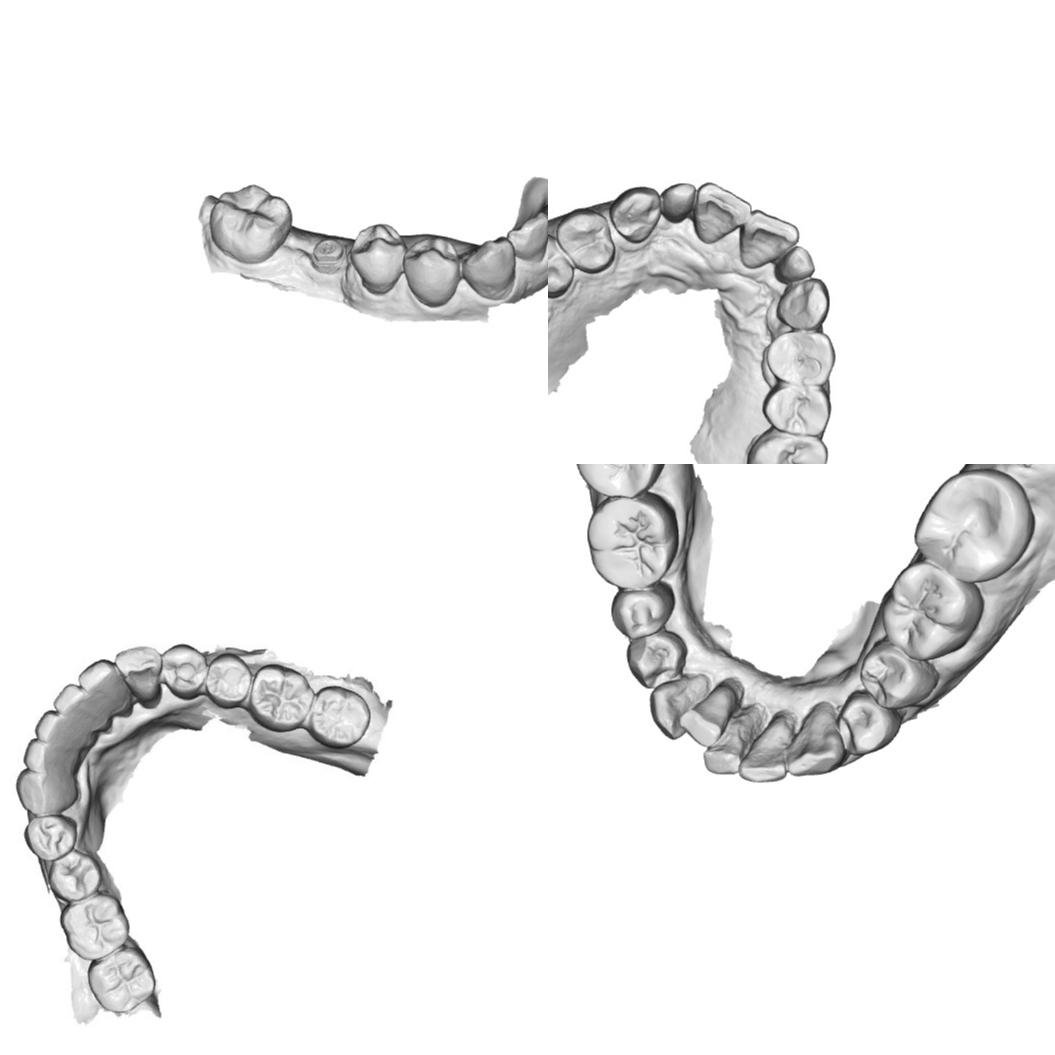canine: (784, 702, 844, 777), (648, 677, 709, 739), (460, 235, 517, 301), (15, 767, 84, 817), (115, 640, 161, 710), (608, 185, 662, 244), (776, 278, 830, 330)
crown: (774, 245, 816, 283), (659, 181, 696, 224)
implant_minus: (299, 230, 344, 279)
incisor: (678, 682, 737, 749), (693, 180, 751, 244), (738, 209, 800, 268), (736, 716, 790, 783), (82, 662, 137, 719), (55, 685, 112, 737), (37, 713, 101, 758), (698, 717, 745, 777), (506, 210, 548, 264), (24, 741, 86, 777)
molar: (912, 467, 1037, 585), (879, 559, 984, 661), (585, 494, 678, 591), (206, 182, 294, 265), (84, 946, 157, 1017), (305, 684, 374, 748), (60, 899, 128, 962), (252, 662, 312, 730), (571, 464, 670, 498), (745, 427, 829, 464)
premolar: (857, 647, 938, 712), (833, 688, 899, 759), (348, 222, 408, 295), (402, 236, 461, 308), (608, 580, 677, 641), (764, 328, 836, 386), (555, 208, 615, 274), (624, 628, 688, 689), (760, 382, 831, 436), (162, 638, 210, 700), (44, 853, 101, 904), (24, 813, 78, 859), (208, 653, 252, 709), (548, 232, 574, 299)
